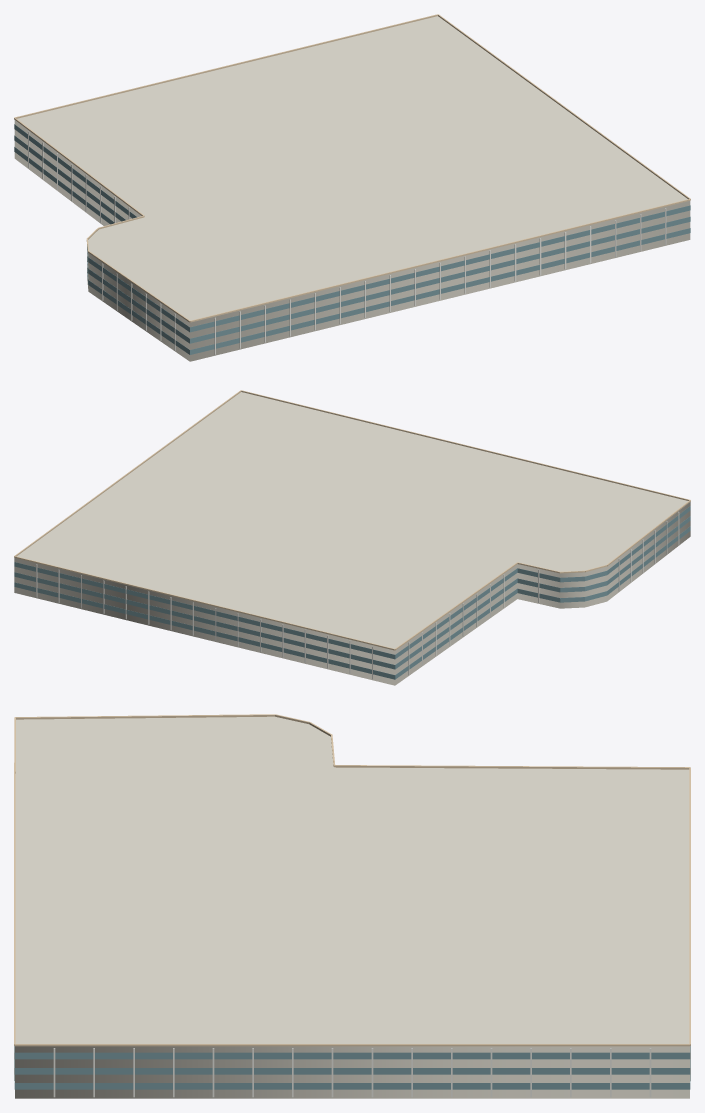
The model's file is india-expo-mart.glb.
The picture shows the model from 3 angles, top to bottom: view 1: azimuth 30°, elevation 25°; view 2: azimuth 150°, elevation 25°; view 3: azimuth 270°, elevation 25°; orthographic projection. The views are drawn at different scales.
Visible parts, largest first — view 1: NCR_india-expo-mart; view 2: NCR_india-expo-mart; view 3: NCR_india-expo-mart.
Boxes of the visible parts, left/top/right/bottom form: NCR_india-expo-mart: left=14, top=14, right=690, bottom=361; NCR_india-expo-mart: left=14, top=390, right=690, bottom=685; NCR_india-expo-mart: left=14, top=714, right=690, bottom=1098.
Size of the model in its own units: 234 by 18 by 202.
